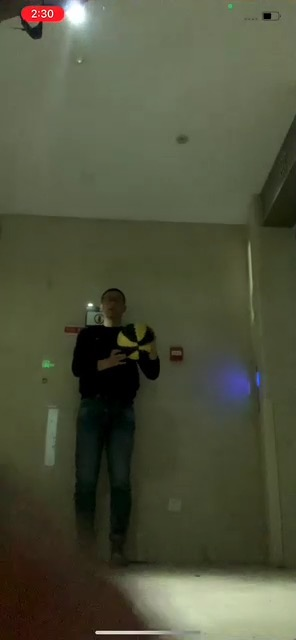ball: (116, 320, 158, 363)
